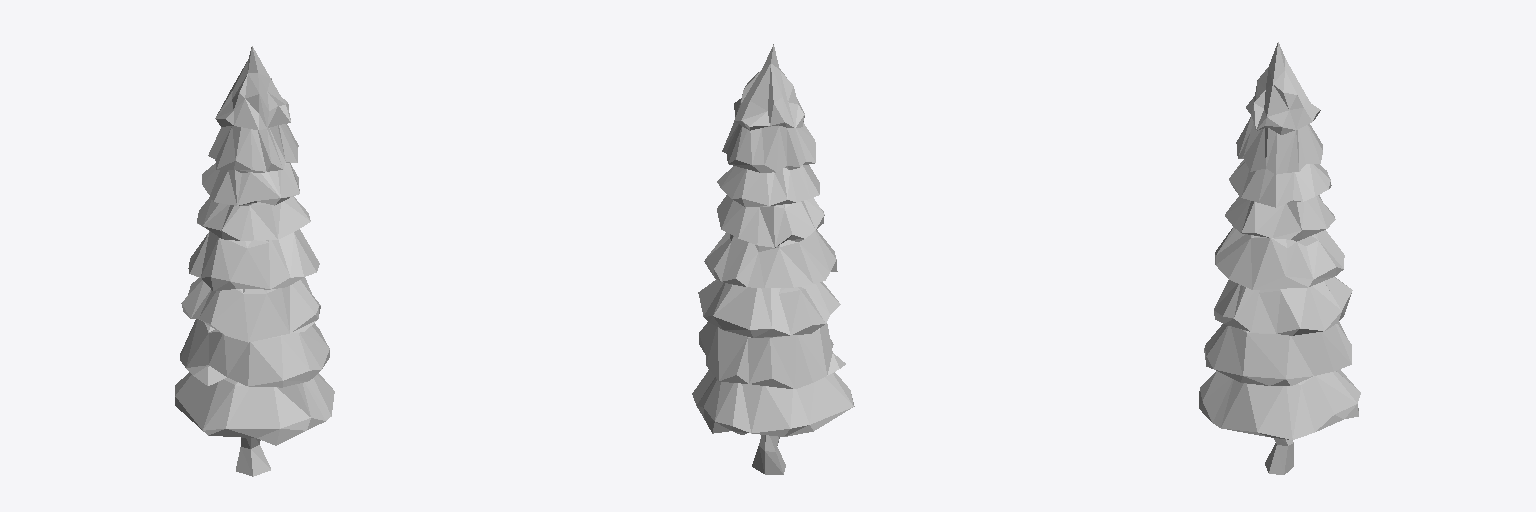
The model's file is tree2.obj.
The picture shows the model from 3 angles: view 1: azimuth 30°, elevation 25°; view 2: azimuth 150°, elevation 25°; view 3: azimuth 270°, elevation 25°; orthographic projection.
Parts seen in each view (by area): view 1: _2_tree; view 2: _2_tree; view 3: _2_tree.
Boxes of the visible parts, x1,y1,x2,y2 form: _2_tree: [175, 46, 334, 476]; _2_tree: [692, 44, 854, 474]; _2_tree: [1199, 42, 1360, 474].
Bounding box in the file's own units: 0.8524 × 2.49 × 0.8631.